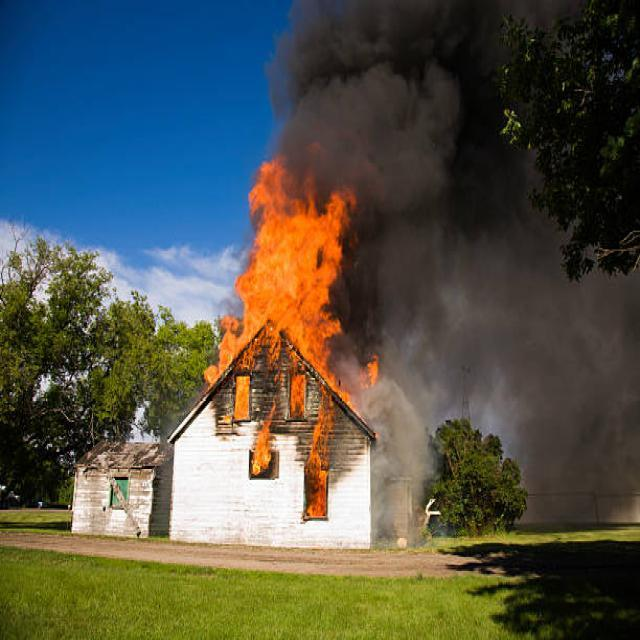Fire: (202, 156, 375, 514)
Smoke: (276, 0, 640, 533)
